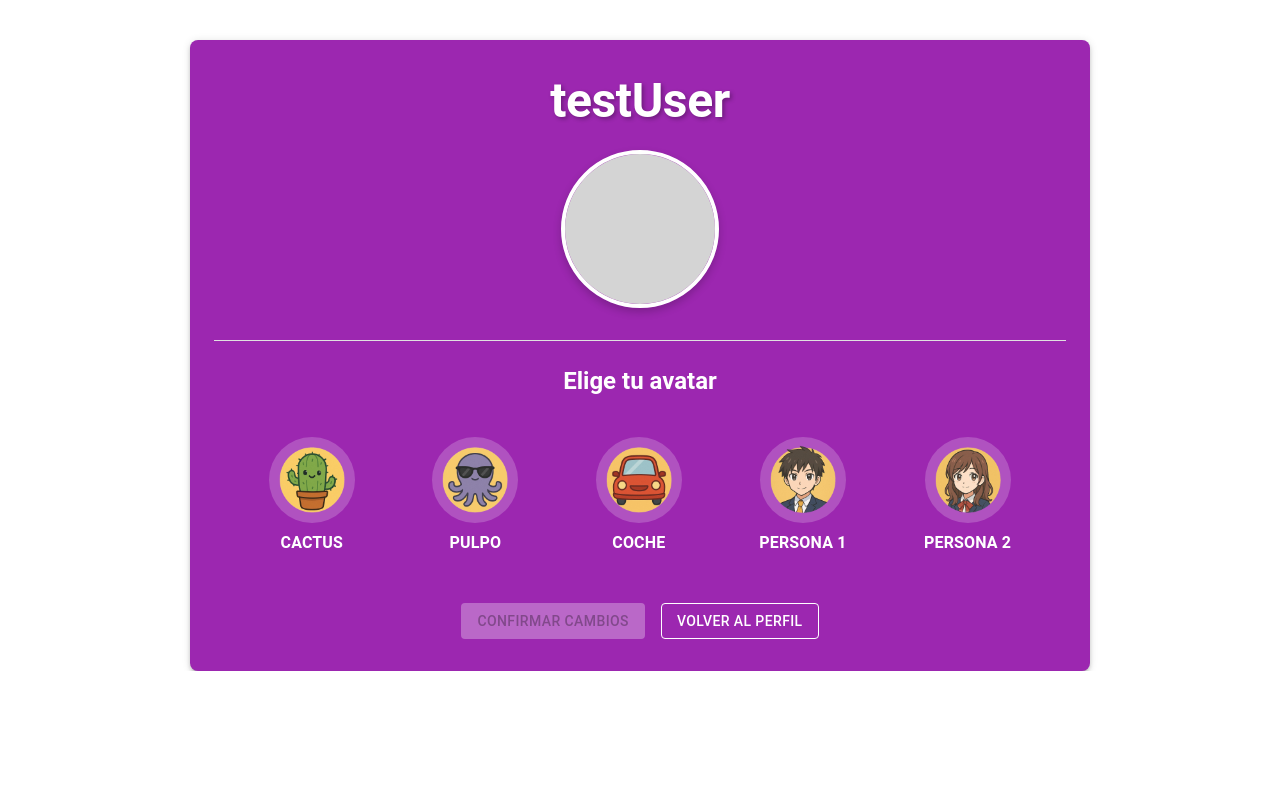
Scenario: AvatarSelection component › should show error message when error occurs
The image size is (1280, 800).
Step 1. Click the button with test id "cactus-button" → click(312, 496), box [253,421,371,571]
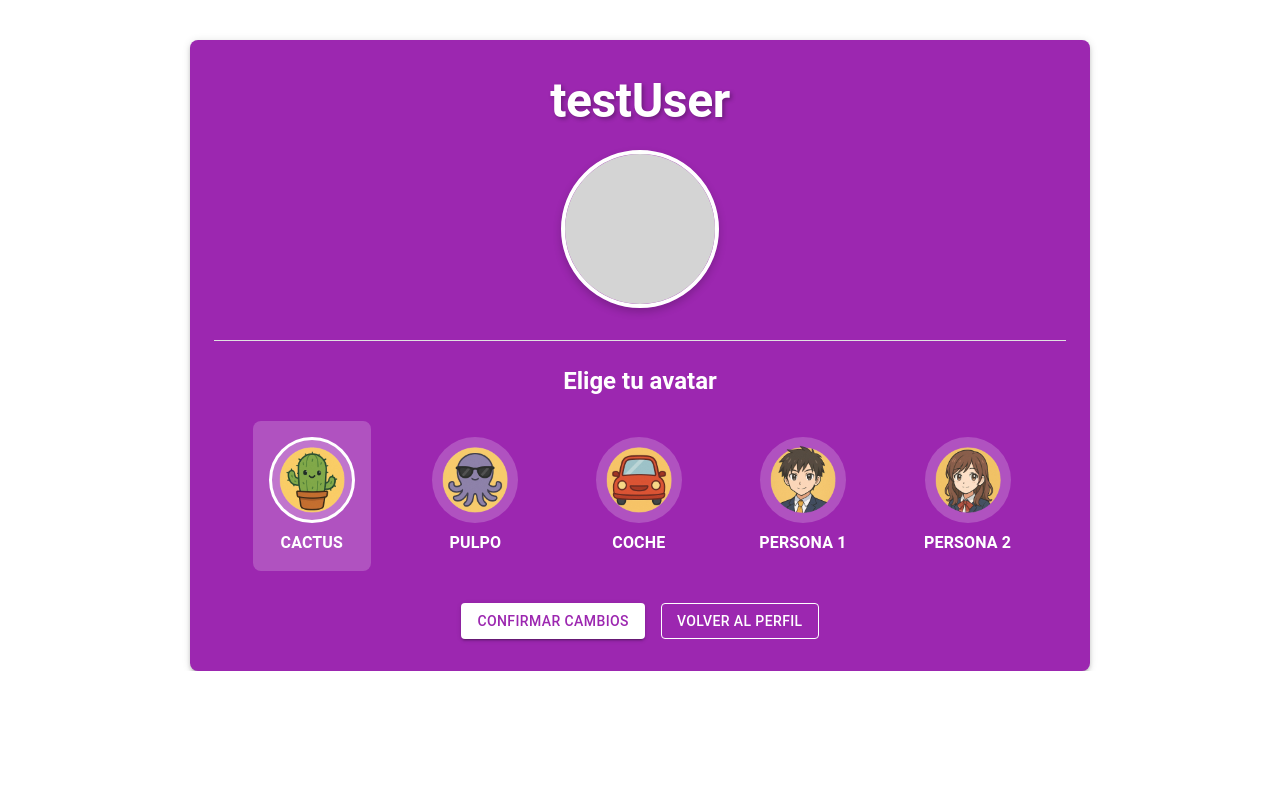
Step 2. Click the button with test id "confirm-button" → click(553, 621), box [461,603,645,639]
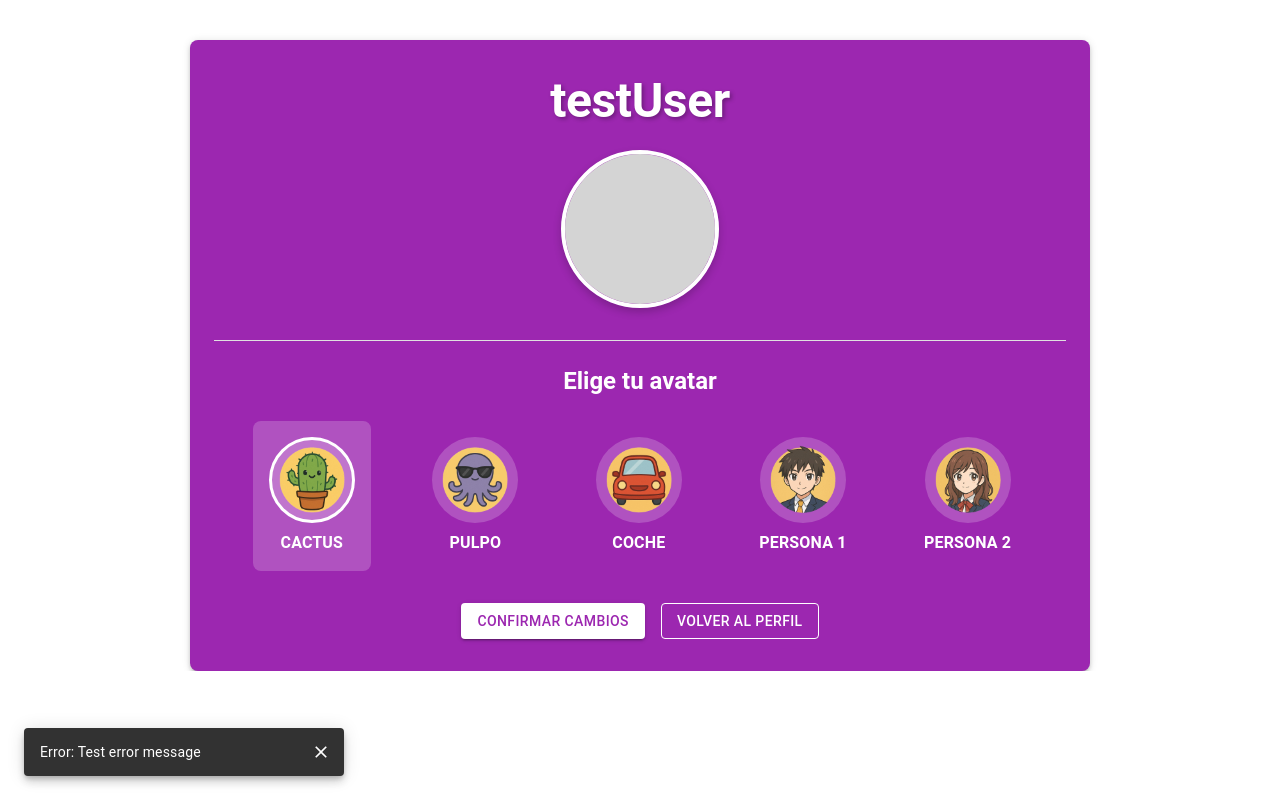
expect the text "Error: Test error message" is shown: met, box [40,744,201,760]
